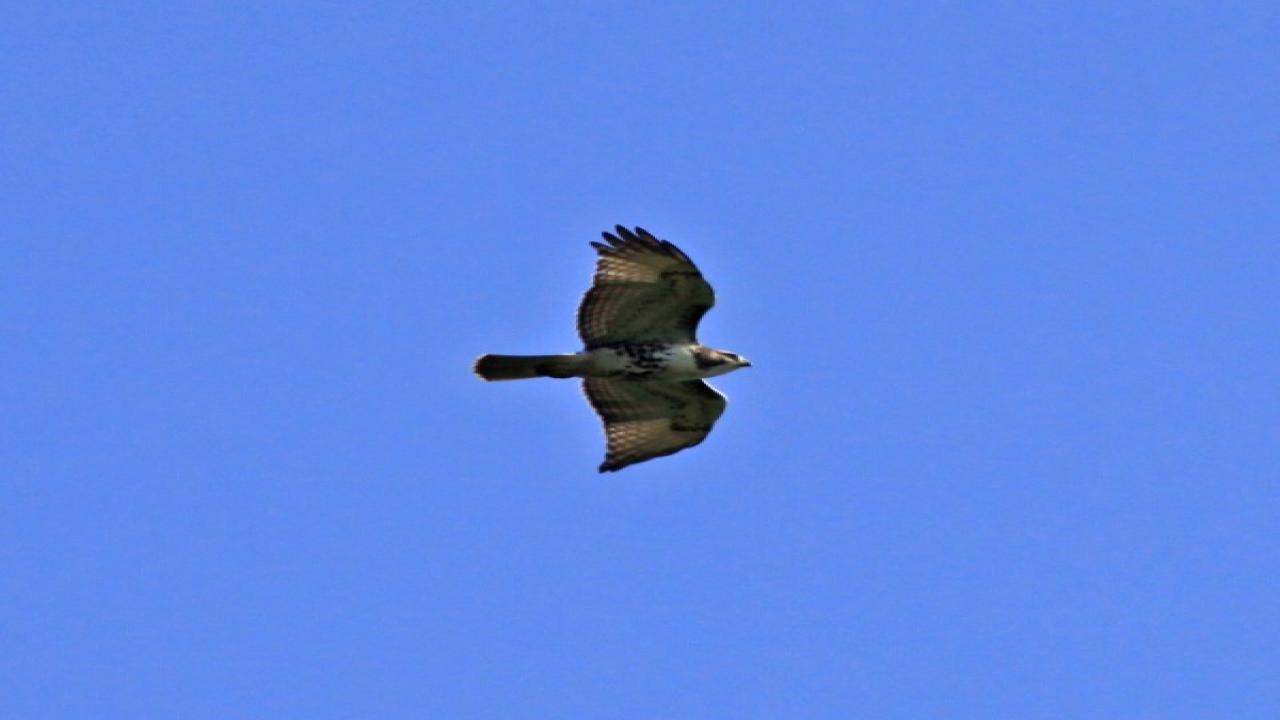Bird: (456, 215, 771, 487)
